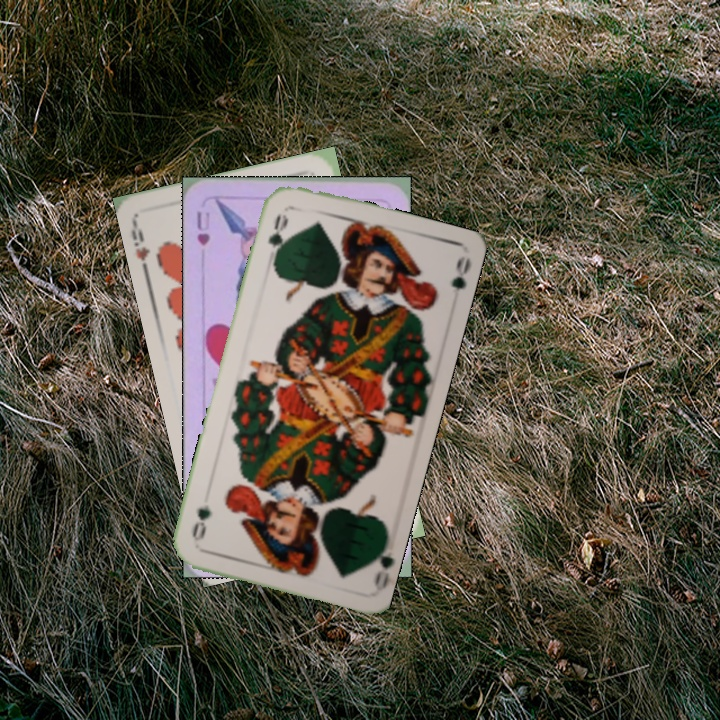GO: (364, 533, 394, 592), (264, 209, 291, 264)
H9: (127, 218, 153, 277)
HU: (192, 207, 212, 248)
